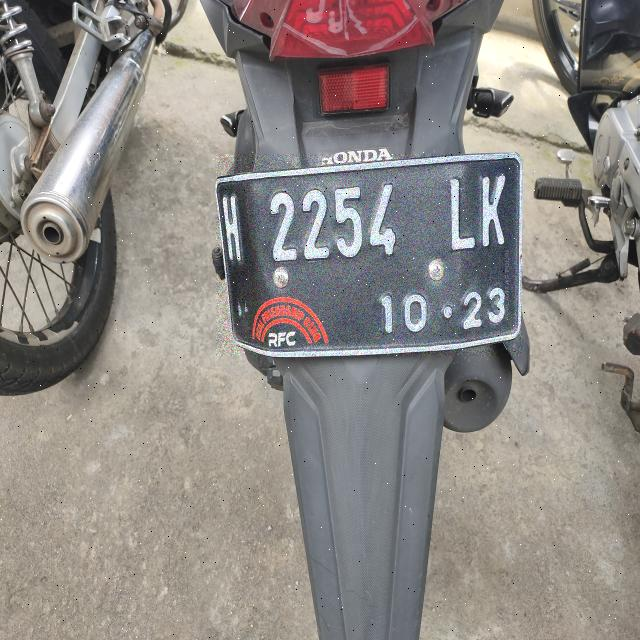plate: (217, 154, 521, 355)
